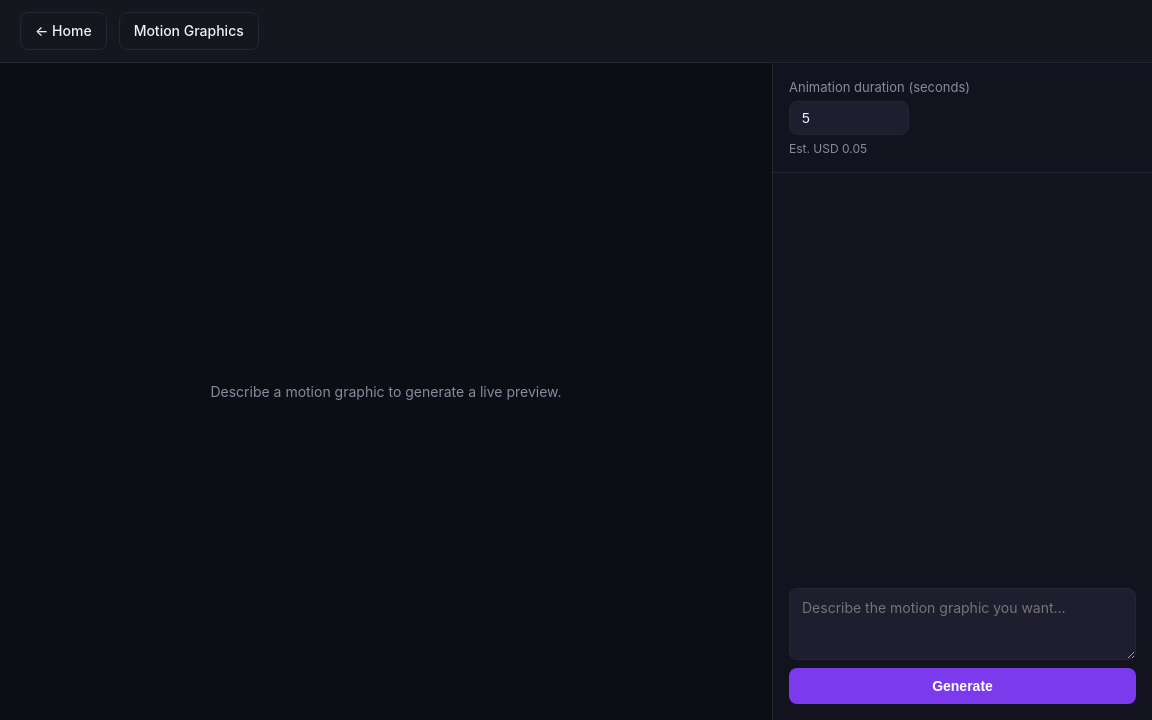
Test case: MotionGraphicAuthoringView (generate) › surfaces the server description_too_short message inline and does not persist
In the text box labelled "Describe the motion graphic you want…": (962, 624) [789,588,1136,660], type "tiny"
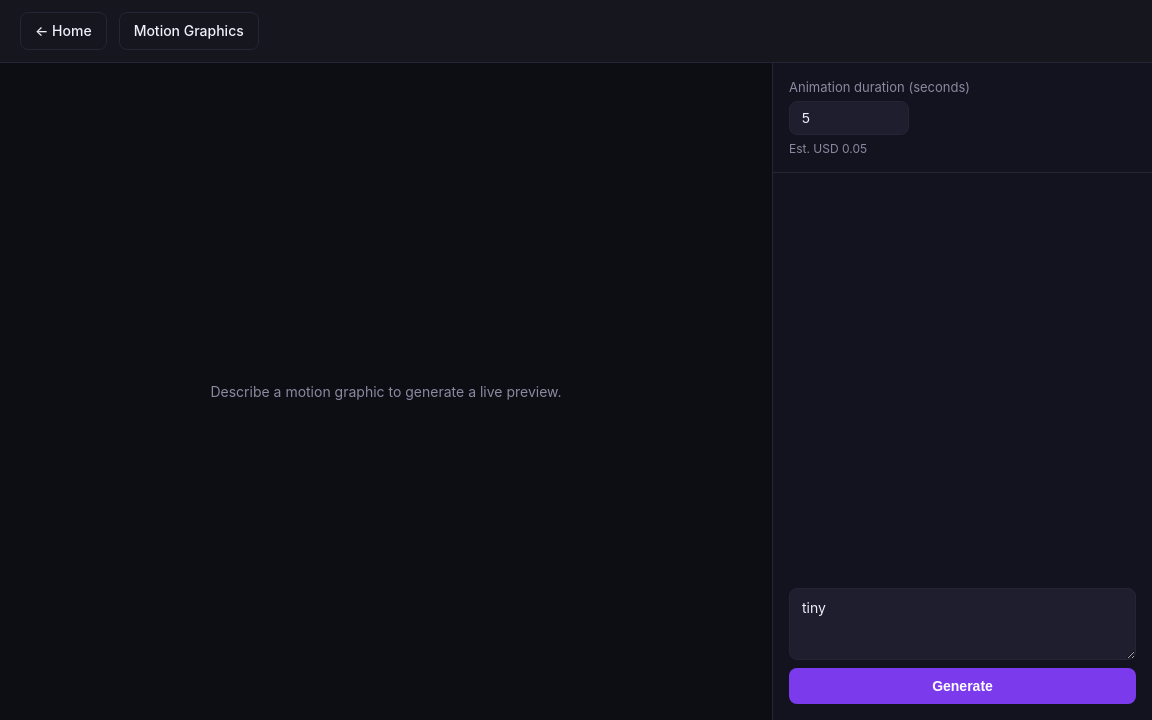
Click the button "Generate": (962, 686) [789,668,1136,704]
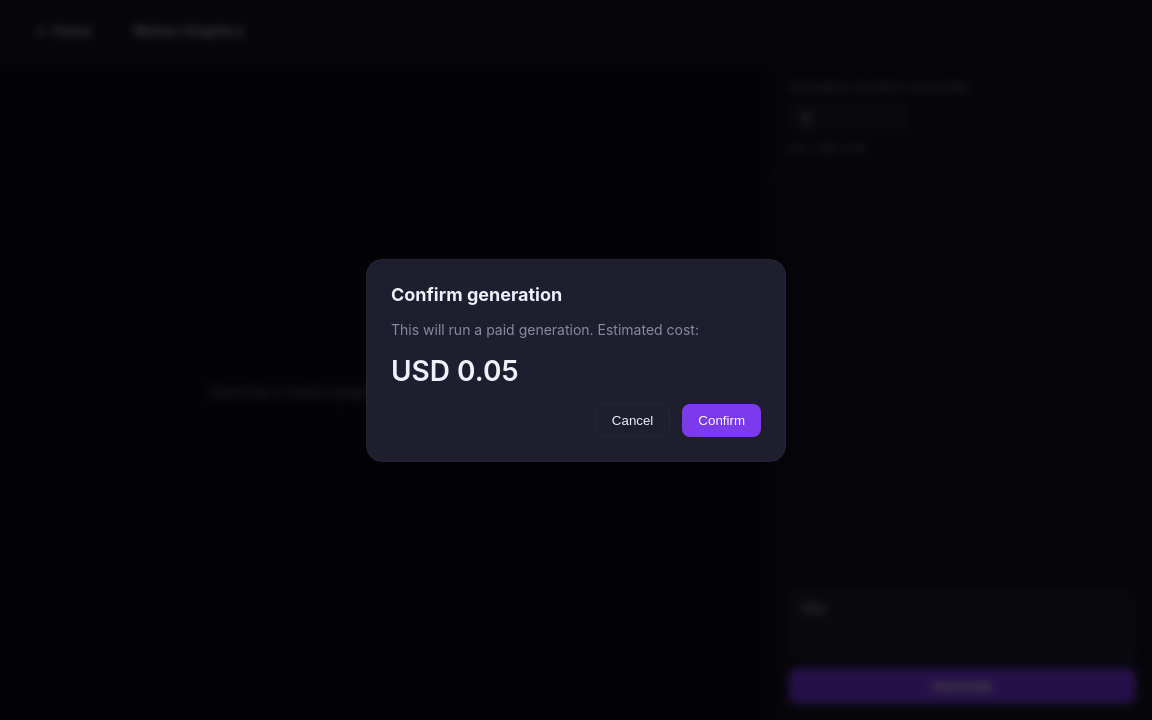
Click the button "Confirm": (722, 420) [682,404,761,436]
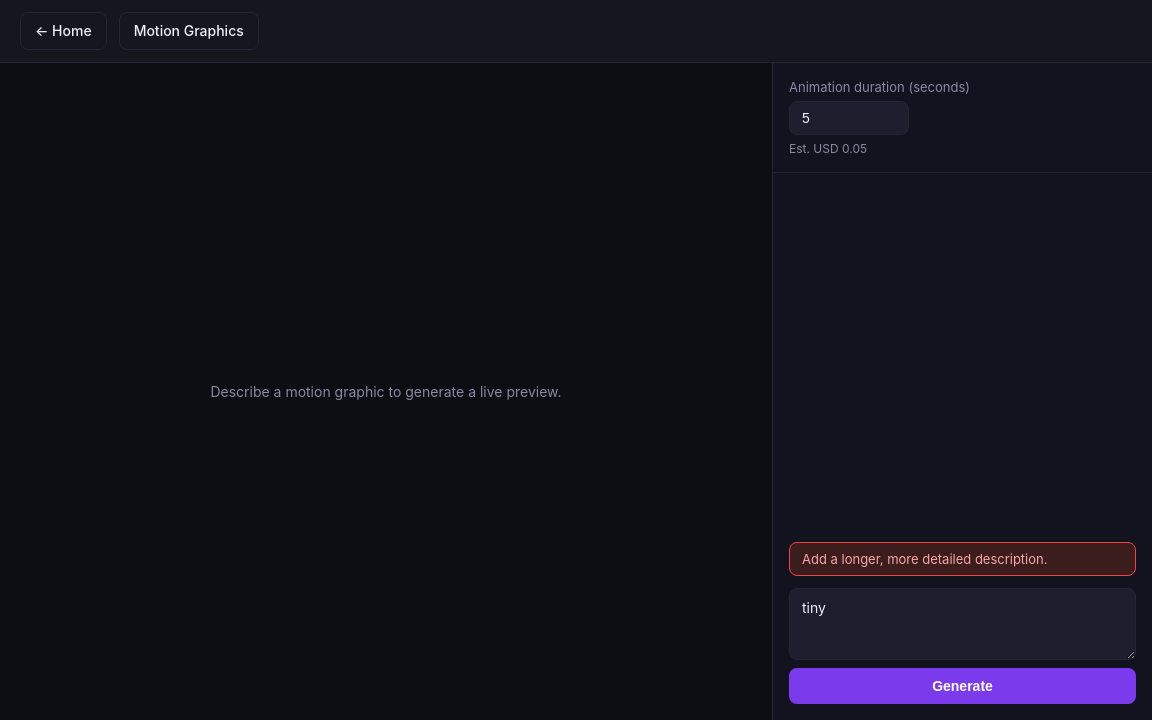
Now the text "Add a longer, more detailed description." is shown, box [789,542,1136,576]
